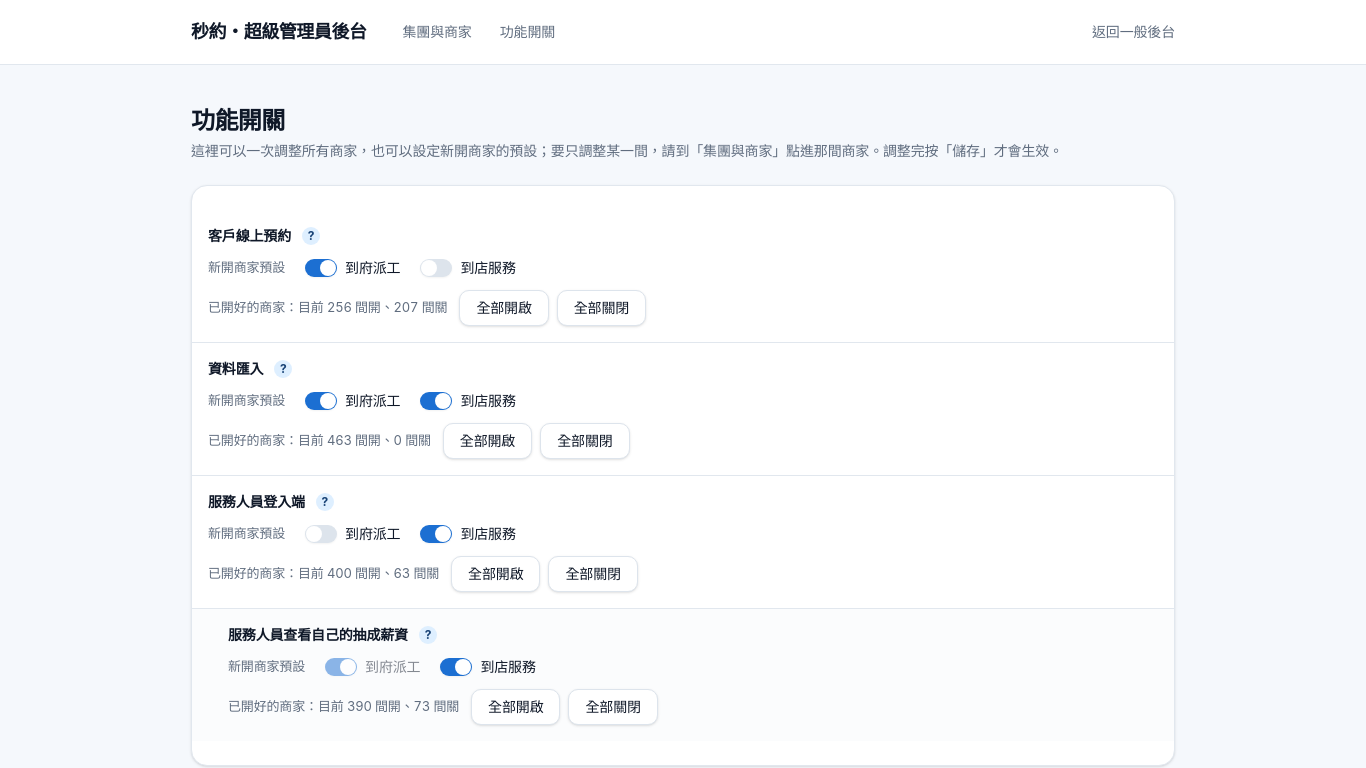
Test: 功能開關頁(IndustryPresetsPage,FG1-U01 / U02 / U08 + 第三輪) › #1052 H2-06:有細部功能的大項全部關閉 ⇒ 確認窗加「底下的細部功能也會一起停用。」;沒有細部功能的不加
The width and height of the screenshot is (1366, 768).
Click the button with test id "feature-bulk-off-staff_portal": (593, 574) [548,556,638,592]
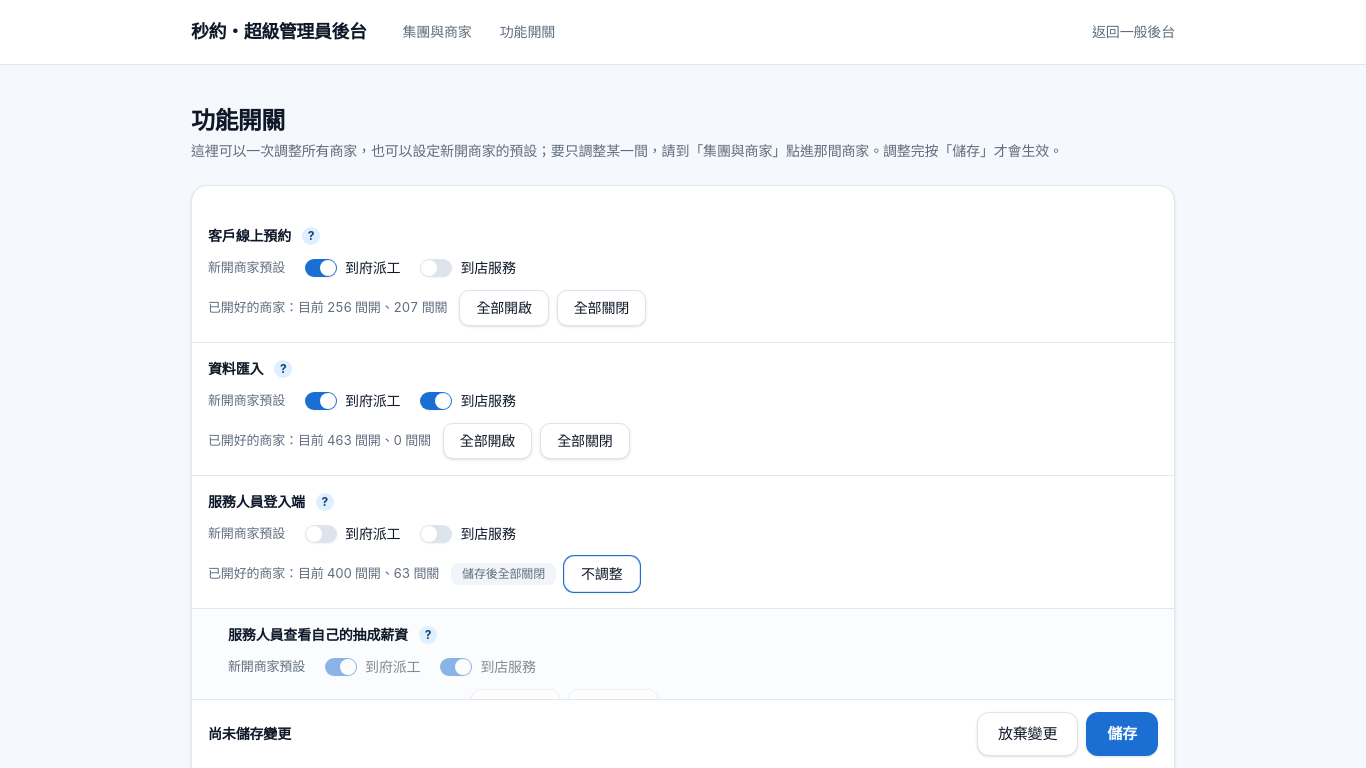
Click the button with test id "feature-bulk-off-online_booking": (602, 308) [557,290,646,326]
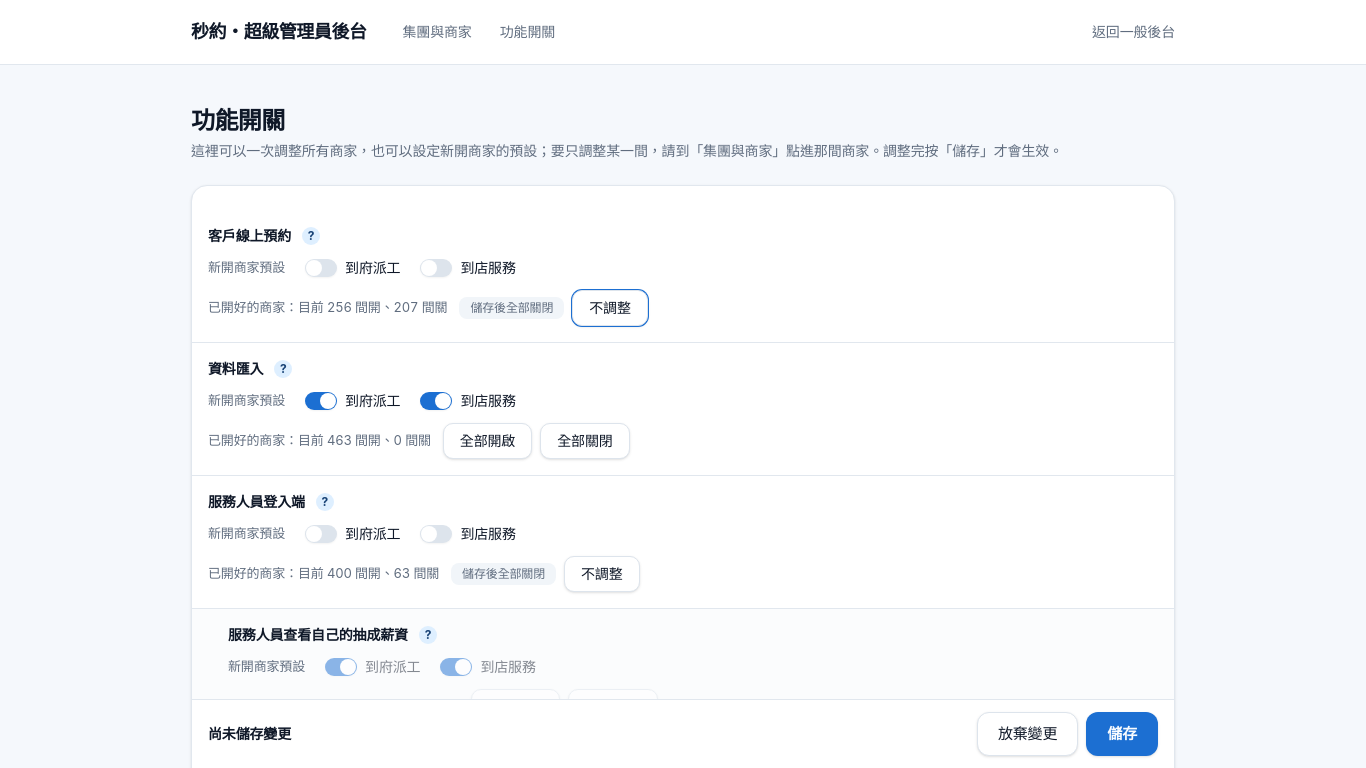
Click the button with test id "feature-presets-save": (1122, 734) [1086,712,1158,756]
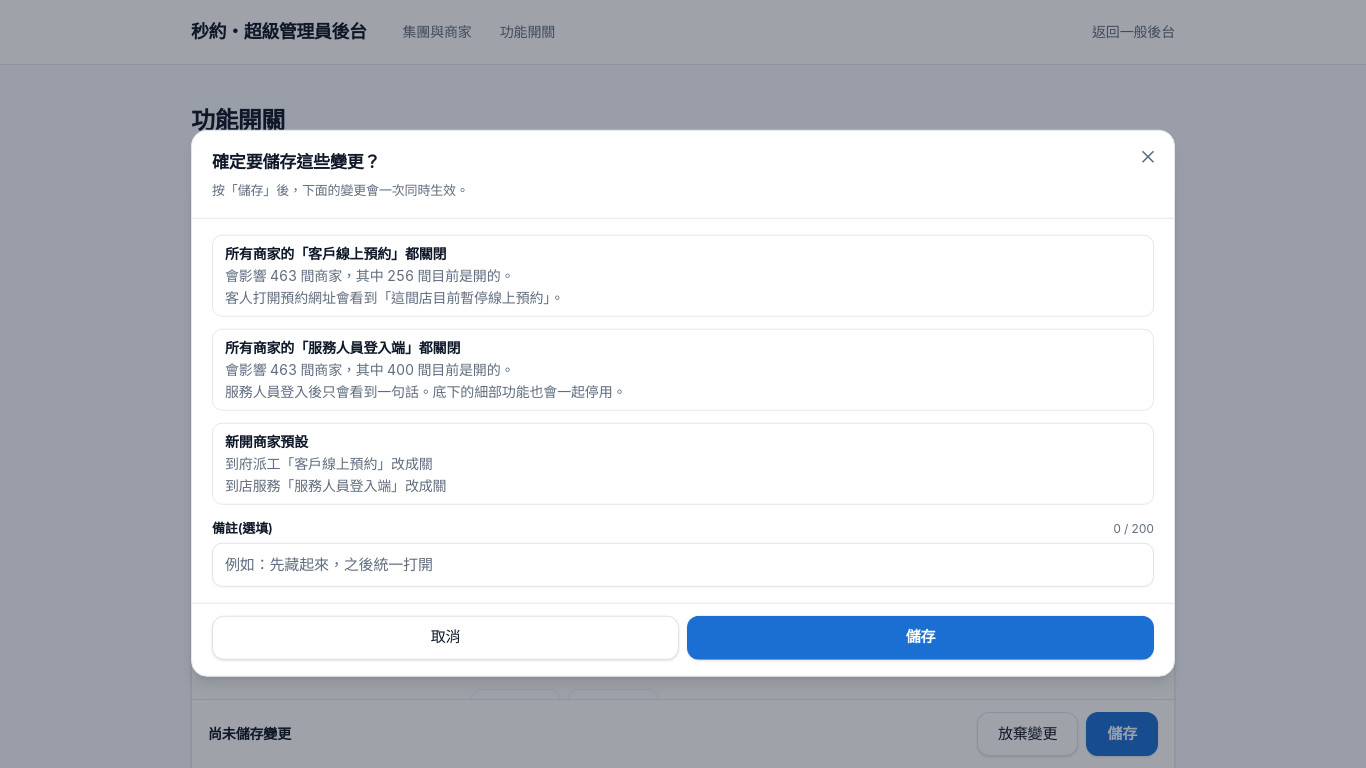
Expected: the list item does not show "底下的細部功能也會一起停用。"
Expected: the list item that starts with "所有商家的「服務人員登入端」都關閉" shows "服務人員登入後只會看到一句話。底下的細部功能也會一起停用。", [212,328,1154,410]
